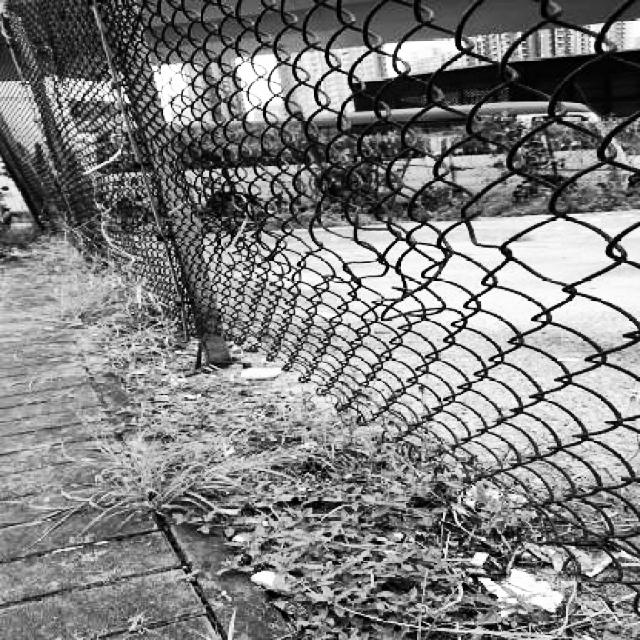fences: (93, 16, 640, 258)
